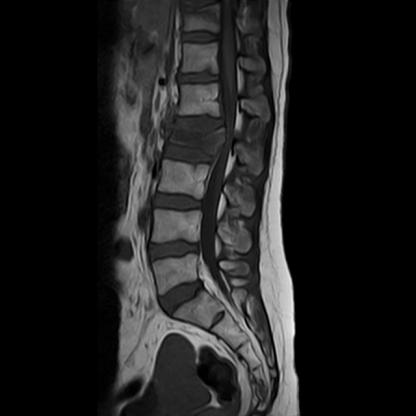Annular Tearrotation: (155, 279, 213, 315)
Fracturerotation: (156, 113, 231, 168)
